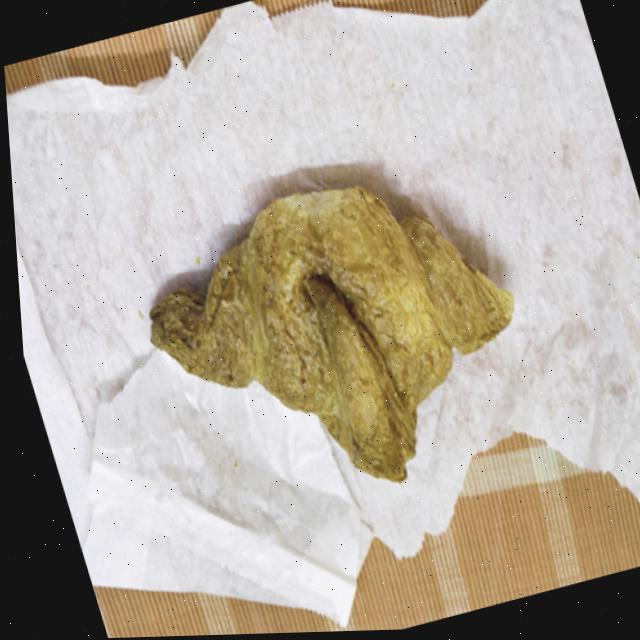面包点心: (90, 120, 565, 562)
